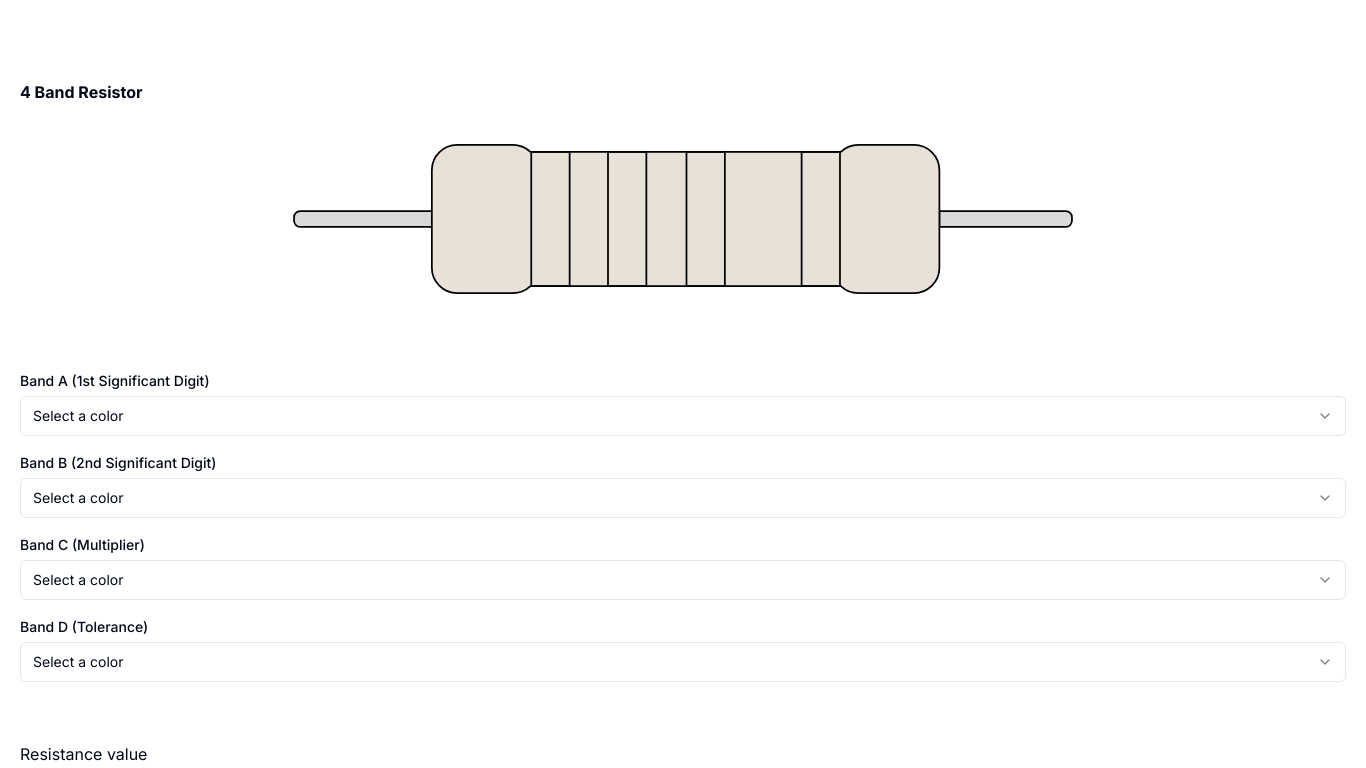
Test case: OhmValueCalculator › Render › Should render valid options for bandAColor
This screenshot has width=1366, height=768.
Click the dropdown named "bandAColor".
click(78, 416)  # box [20,396,1346,436]
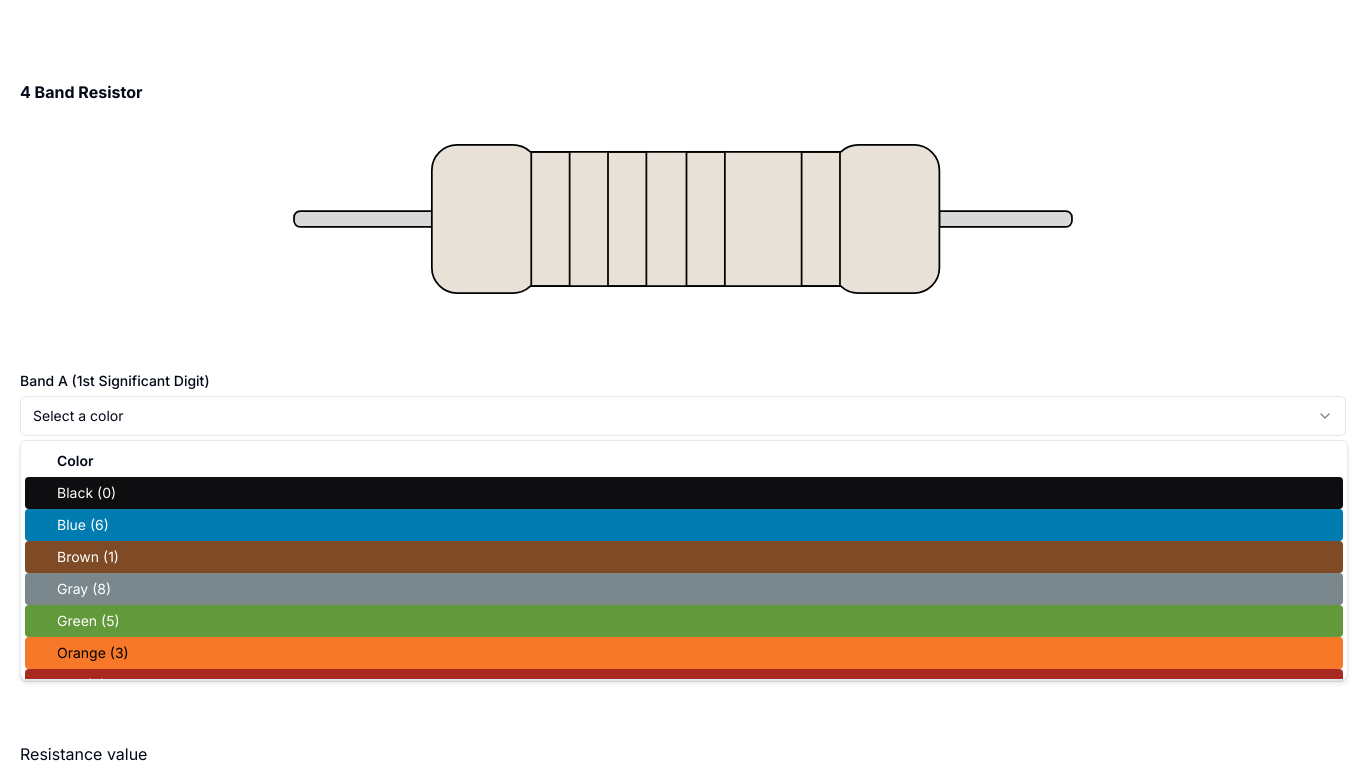
Now the option "Black (0)" is shown, box [25,477,1343,509]
Now the option "Brown (1)" is shown, box [25,541,1343,573]
Now the option "Orange (3)" is shown, box [25,637,1343,669]
